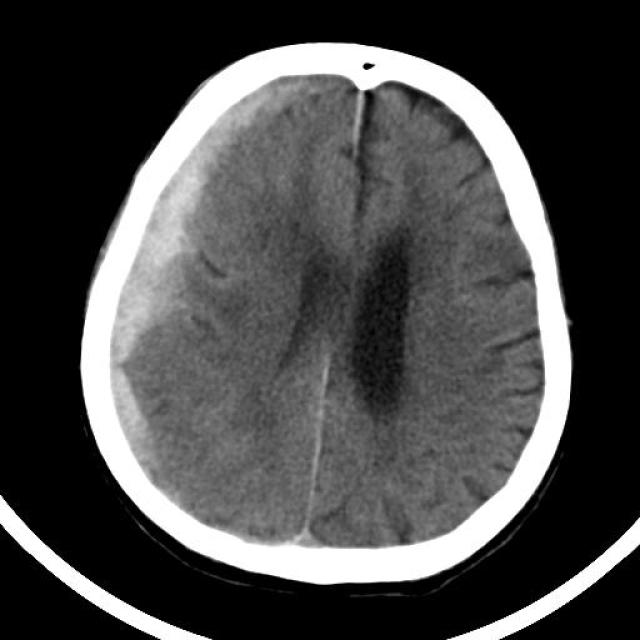Subdural: (68, 42, 338, 496)
